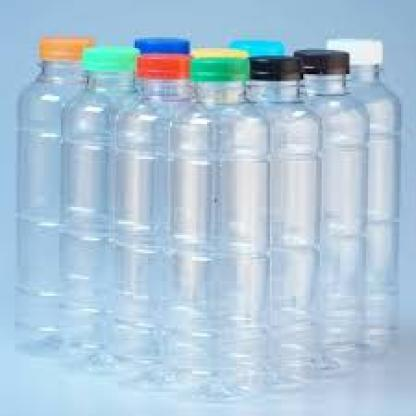Glass Bottle: (35, 39, 145, 358), (176, 45, 269, 393), (312, 32, 404, 366), (116, 53, 204, 386), (287, 44, 372, 368), (249, 51, 329, 395), (13, 27, 96, 342)
